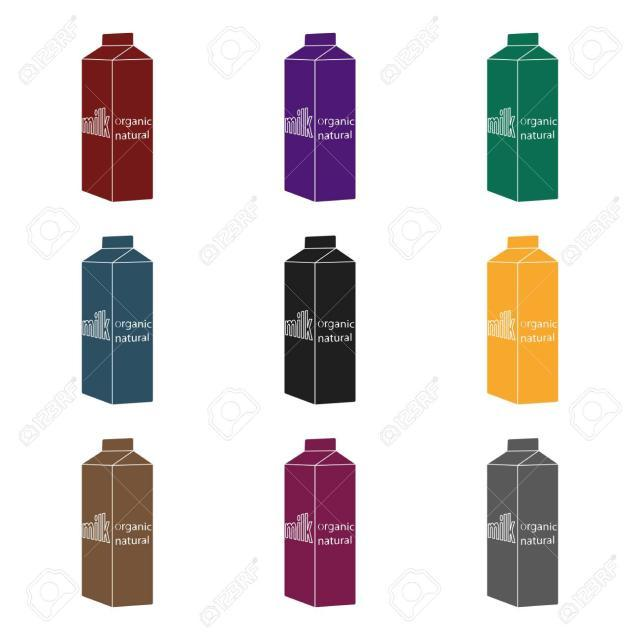Carton: (62, 14, 174, 215), (63, 434, 178, 624), (472, 23, 580, 218), (270, 421, 375, 615), (265, 24, 367, 222), (63, 230, 165, 413), (475, 422, 565, 621), (270, 232, 363, 412), (480, 229, 572, 406)
